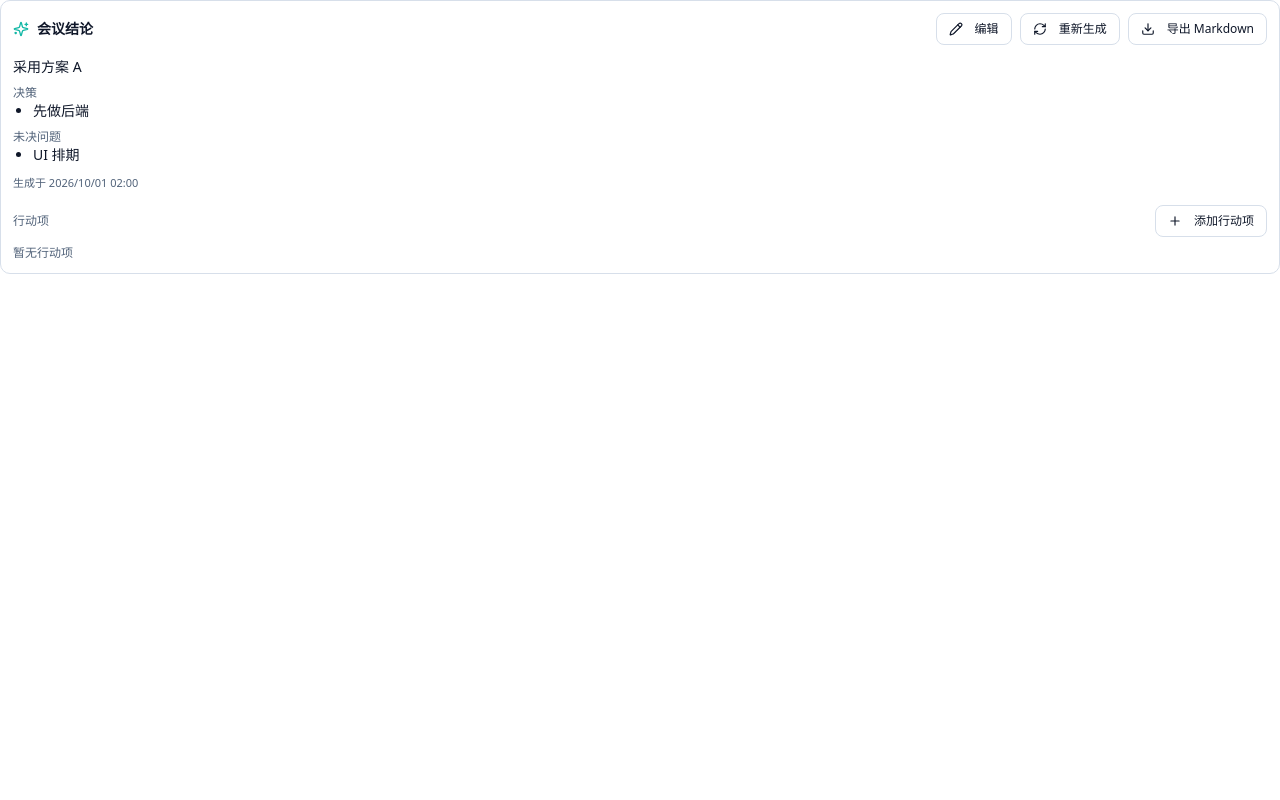
Test: 会议结论面板（v2.6 M3） › 编辑结论：保存后展示人工摘要
Expected: the text "采用方案 A" is shown, x1=13 y1=57 x2=82 y2=76
Click the button "编辑": (974, 29) x1=936 y1=13 x2=1012 y2=45
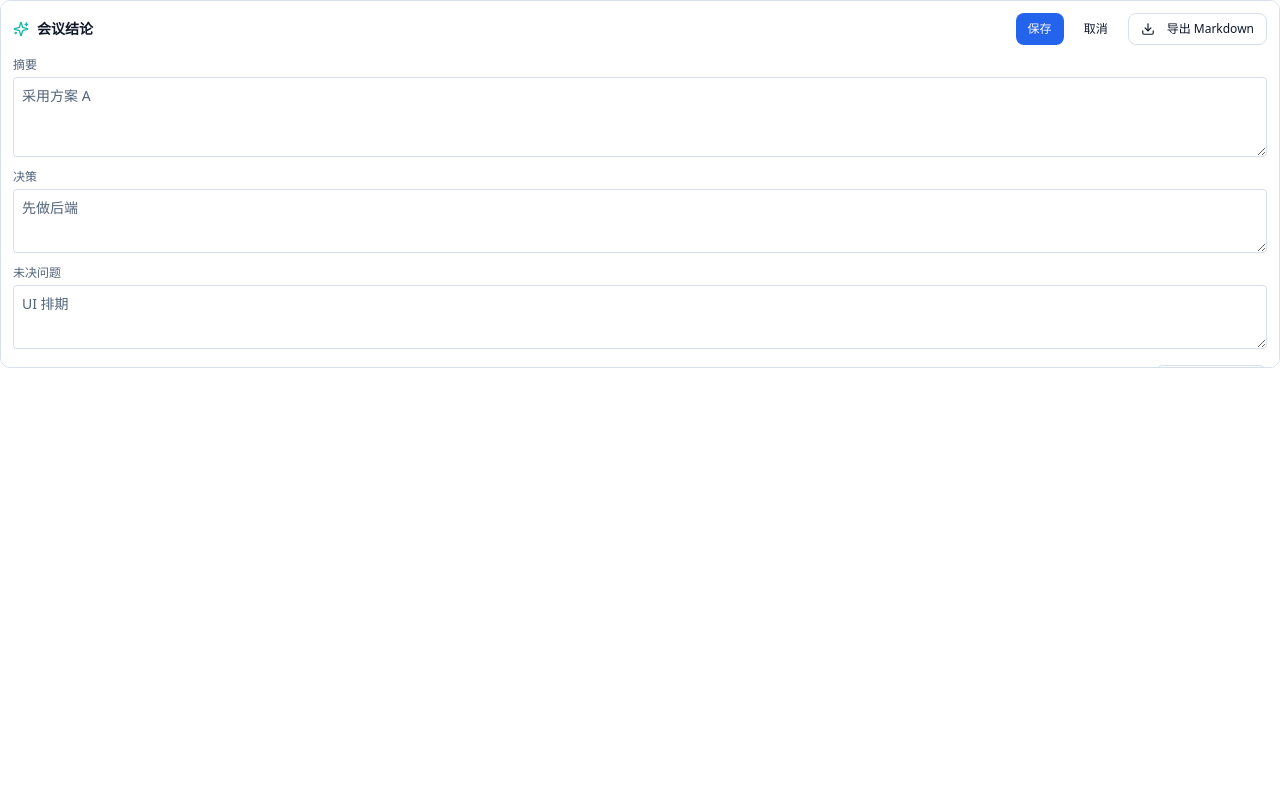
Replace the text in the text box labelled "摘要" with "人工结论": (640, 117) x1=13 y1=77 x2=1267 y2=157
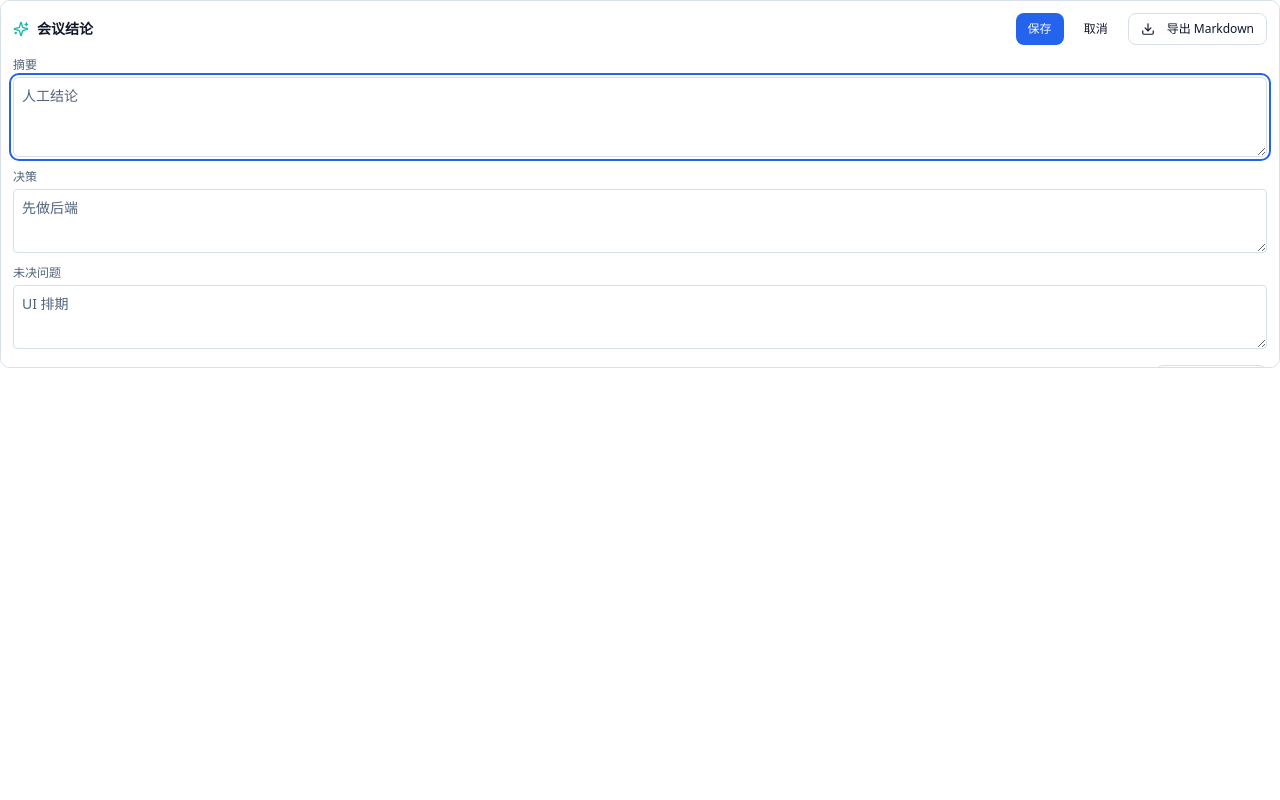
Click the button "保存": (1040, 29) x1=1016 y1=13 x2=1064 y2=45
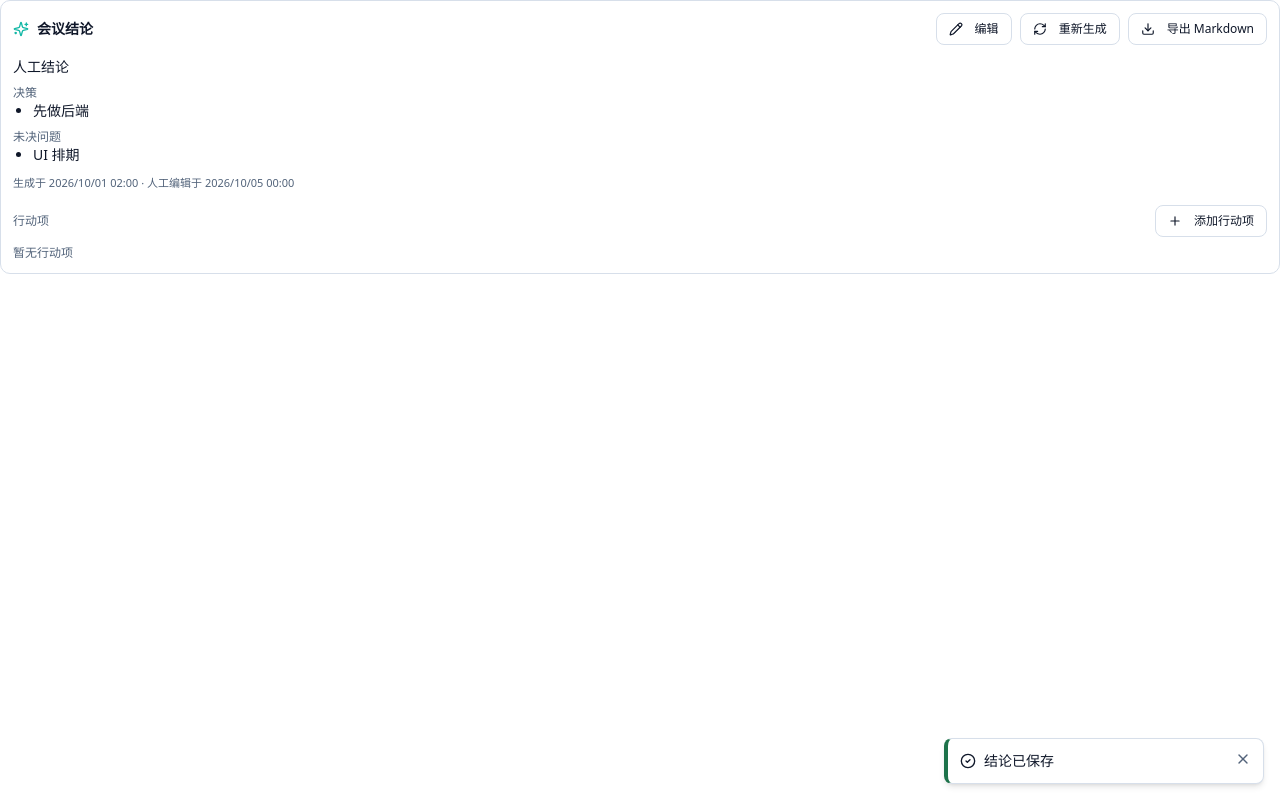
Expected: the text "人工结论" is shown, x1=13 y1=57 x2=69 y2=76
